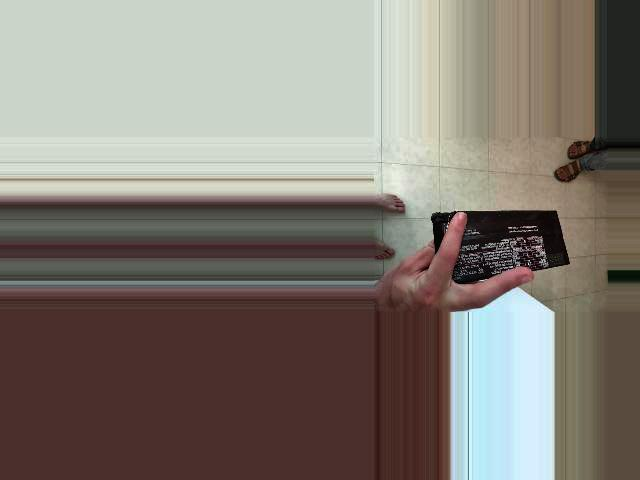chocolate: (421, 205, 579, 288)
